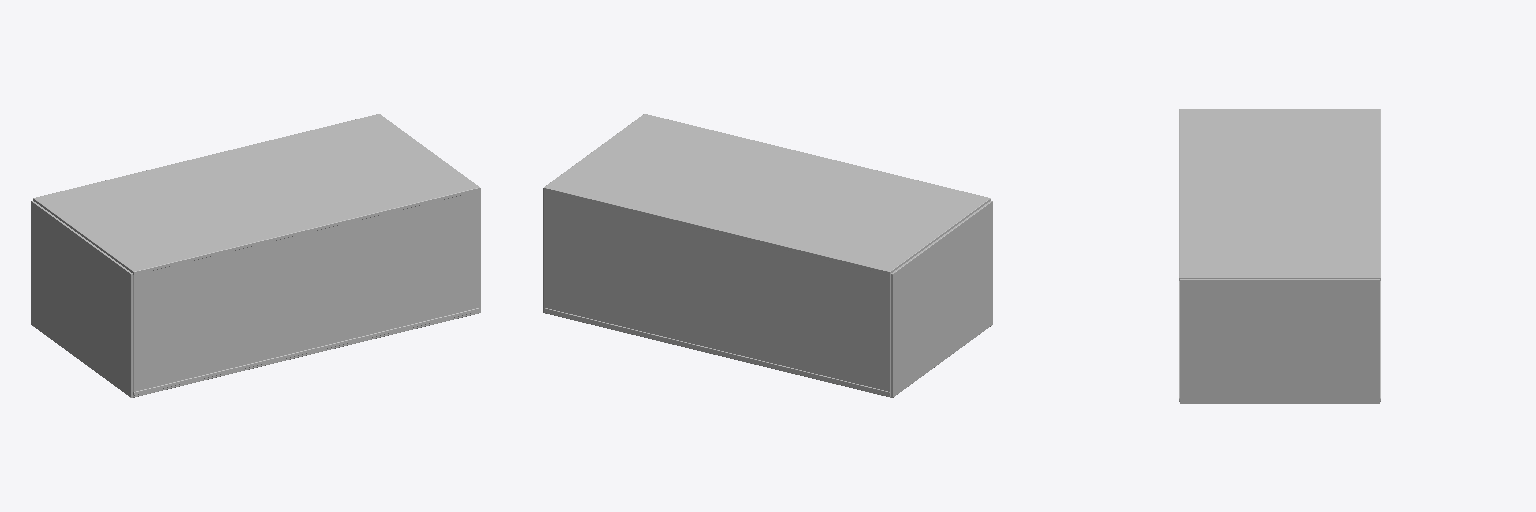
File: building_final2.obj
The picture shows the model from 3 angles: view 1: azimuth 30°, elevation 25°; view 2: azimuth 150°, elevation 25°; view 3: azimuth 270°, elevation 25°; orthographic projection.
Bounding box in the file's own units: 513 × 177 × 257.